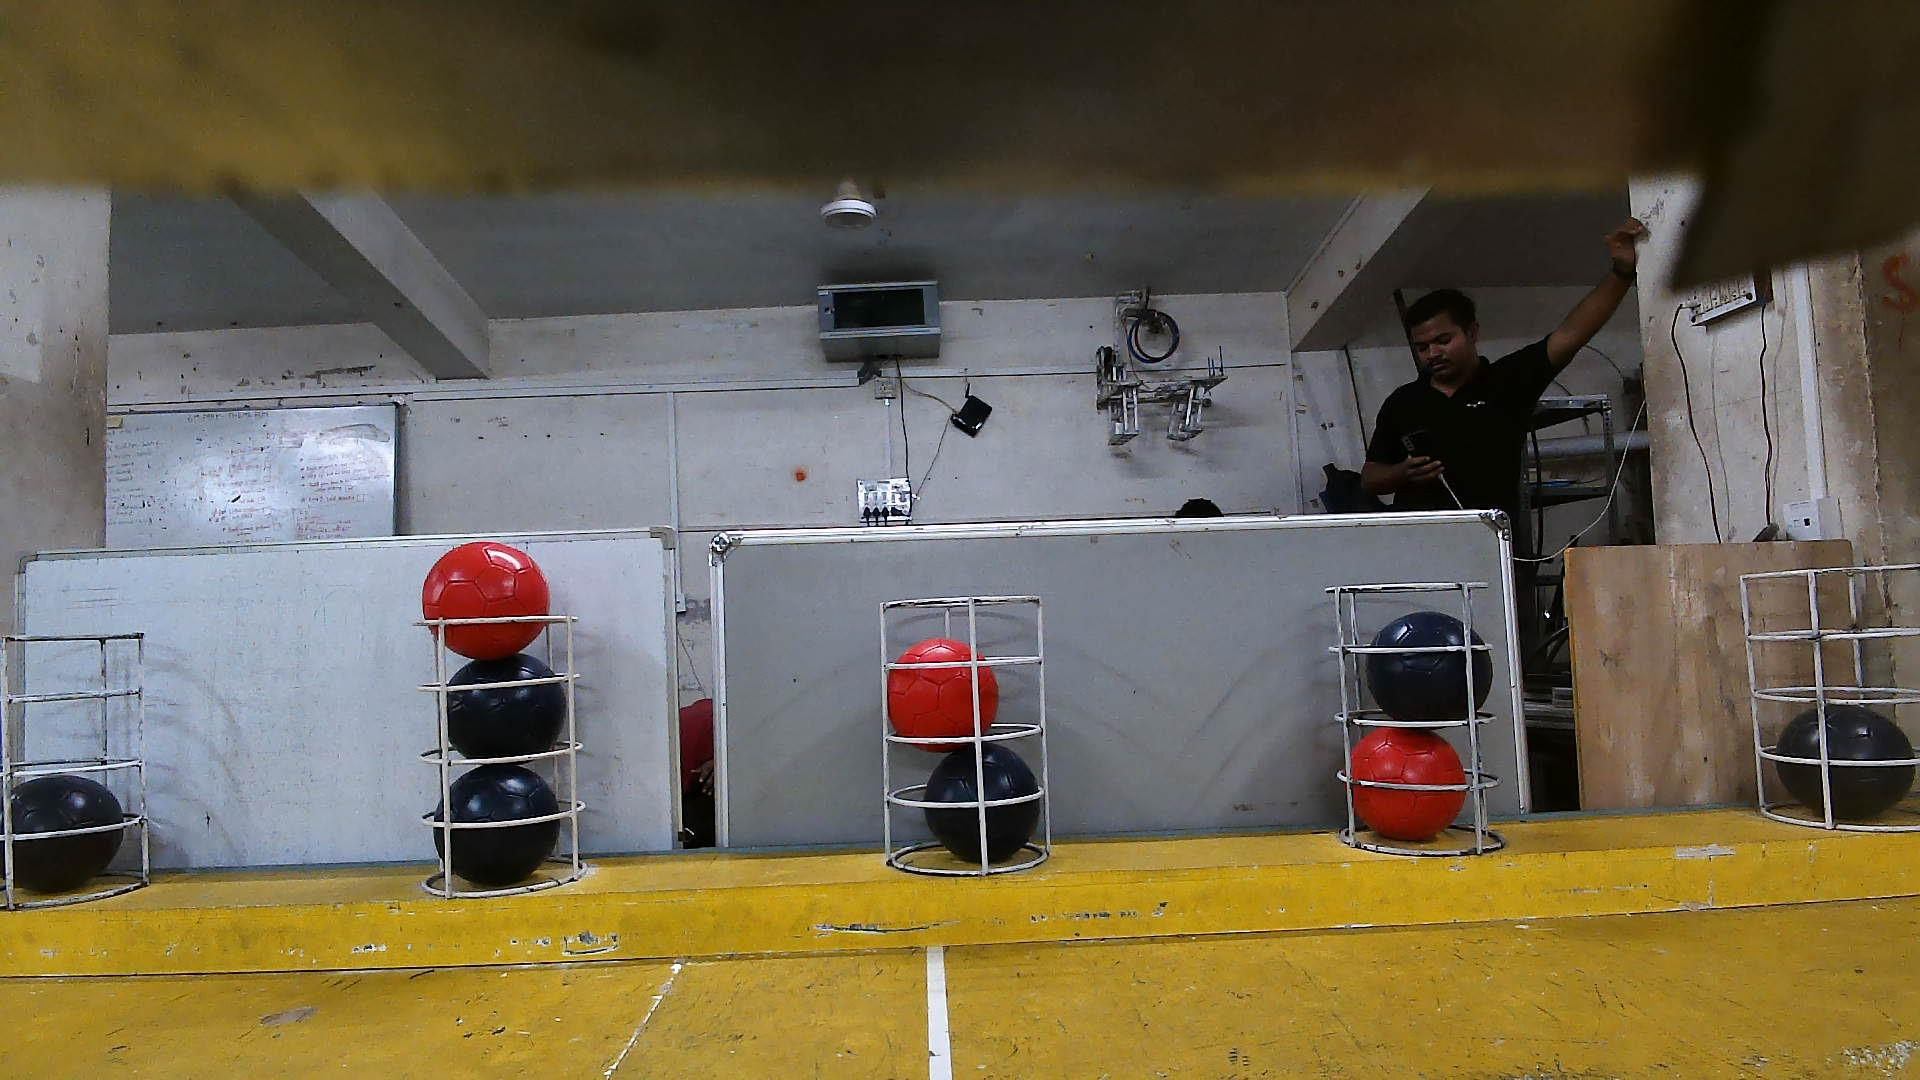dhoka: (1783, 703, 1908, 815), (436, 765, 554, 880), (447, 651, 567, 760), (1371, 617, 1487, 728), (926, 745, 1038, 858), (9, 783, 121, 897)
laale: (423, 541, 551, 661), (1346, 727, 1469, 841), (889, 640, 998, 737)
